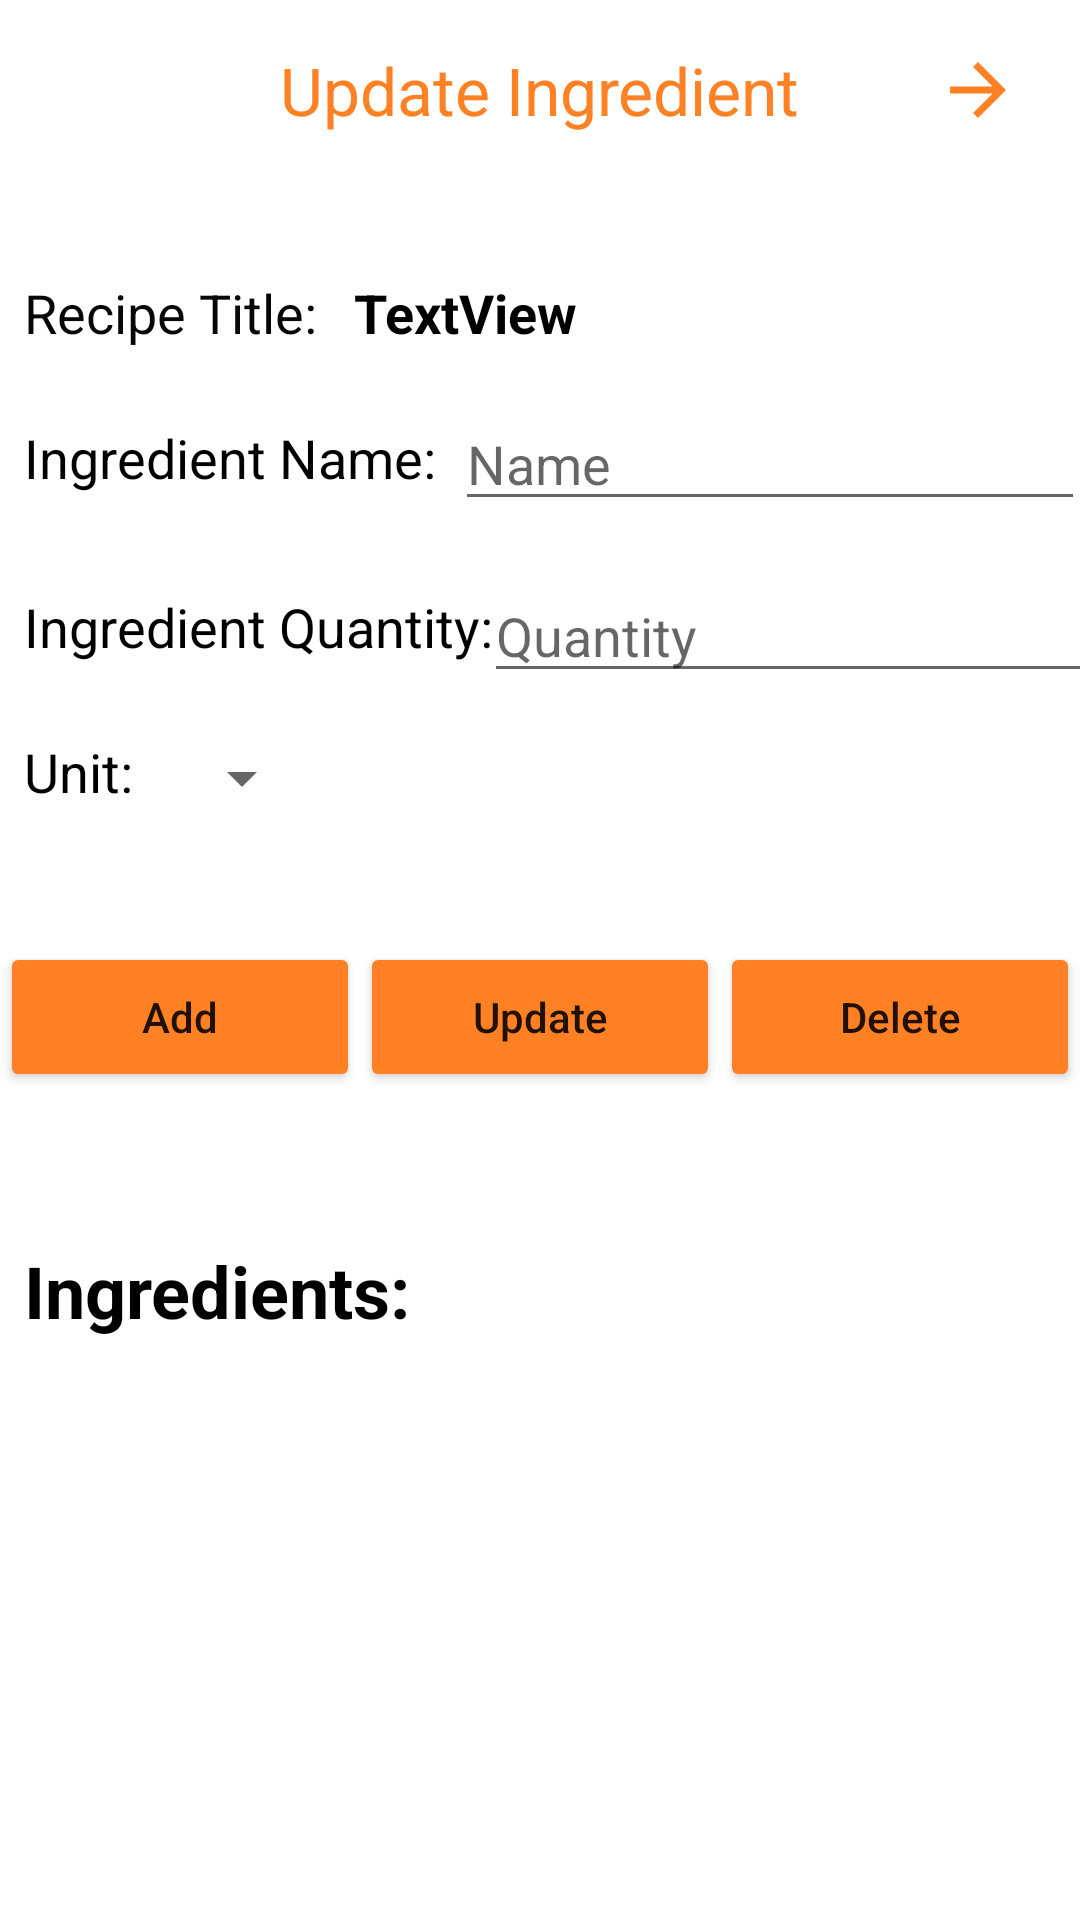

Icons on this 1080w x 1920h Android screen, each with the point to tap as [x,y]:
arrow forward: [978,90]
